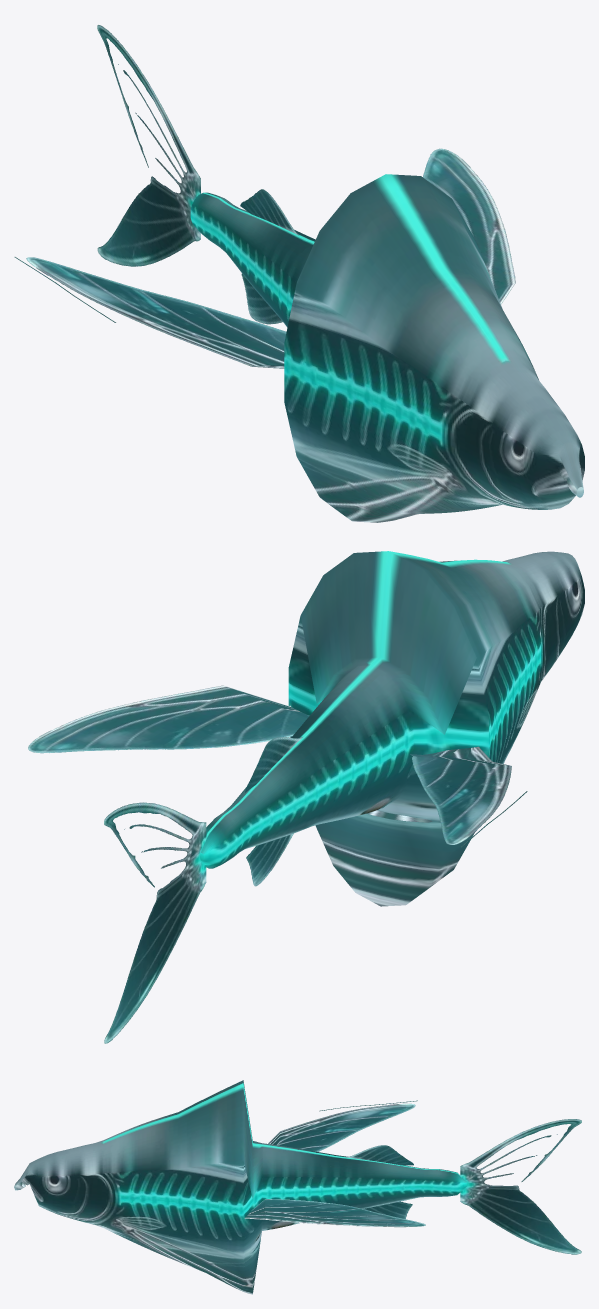
3 views of the same model, one above another, from view 1: azimuth 30°, elevation 25°; view 2: azimuth 150°, elevation 25°; view 3: azimuth 270°, elevation 25° (orthographic). The views are drawn at different scales.
Visible parts, largest first — view 1: fish; view 2: fish; view 3: fish.
Boxes of the visible parts, <box> form: fish: <box>14,25,584,522</box>; fish: <box>28,551,584,1043</box>; fish: <box>14,1080,581,1294</box>.
Size of the model in its own units: 0.5279 by 0.4019 by 1.
1 material, 1 textured.
